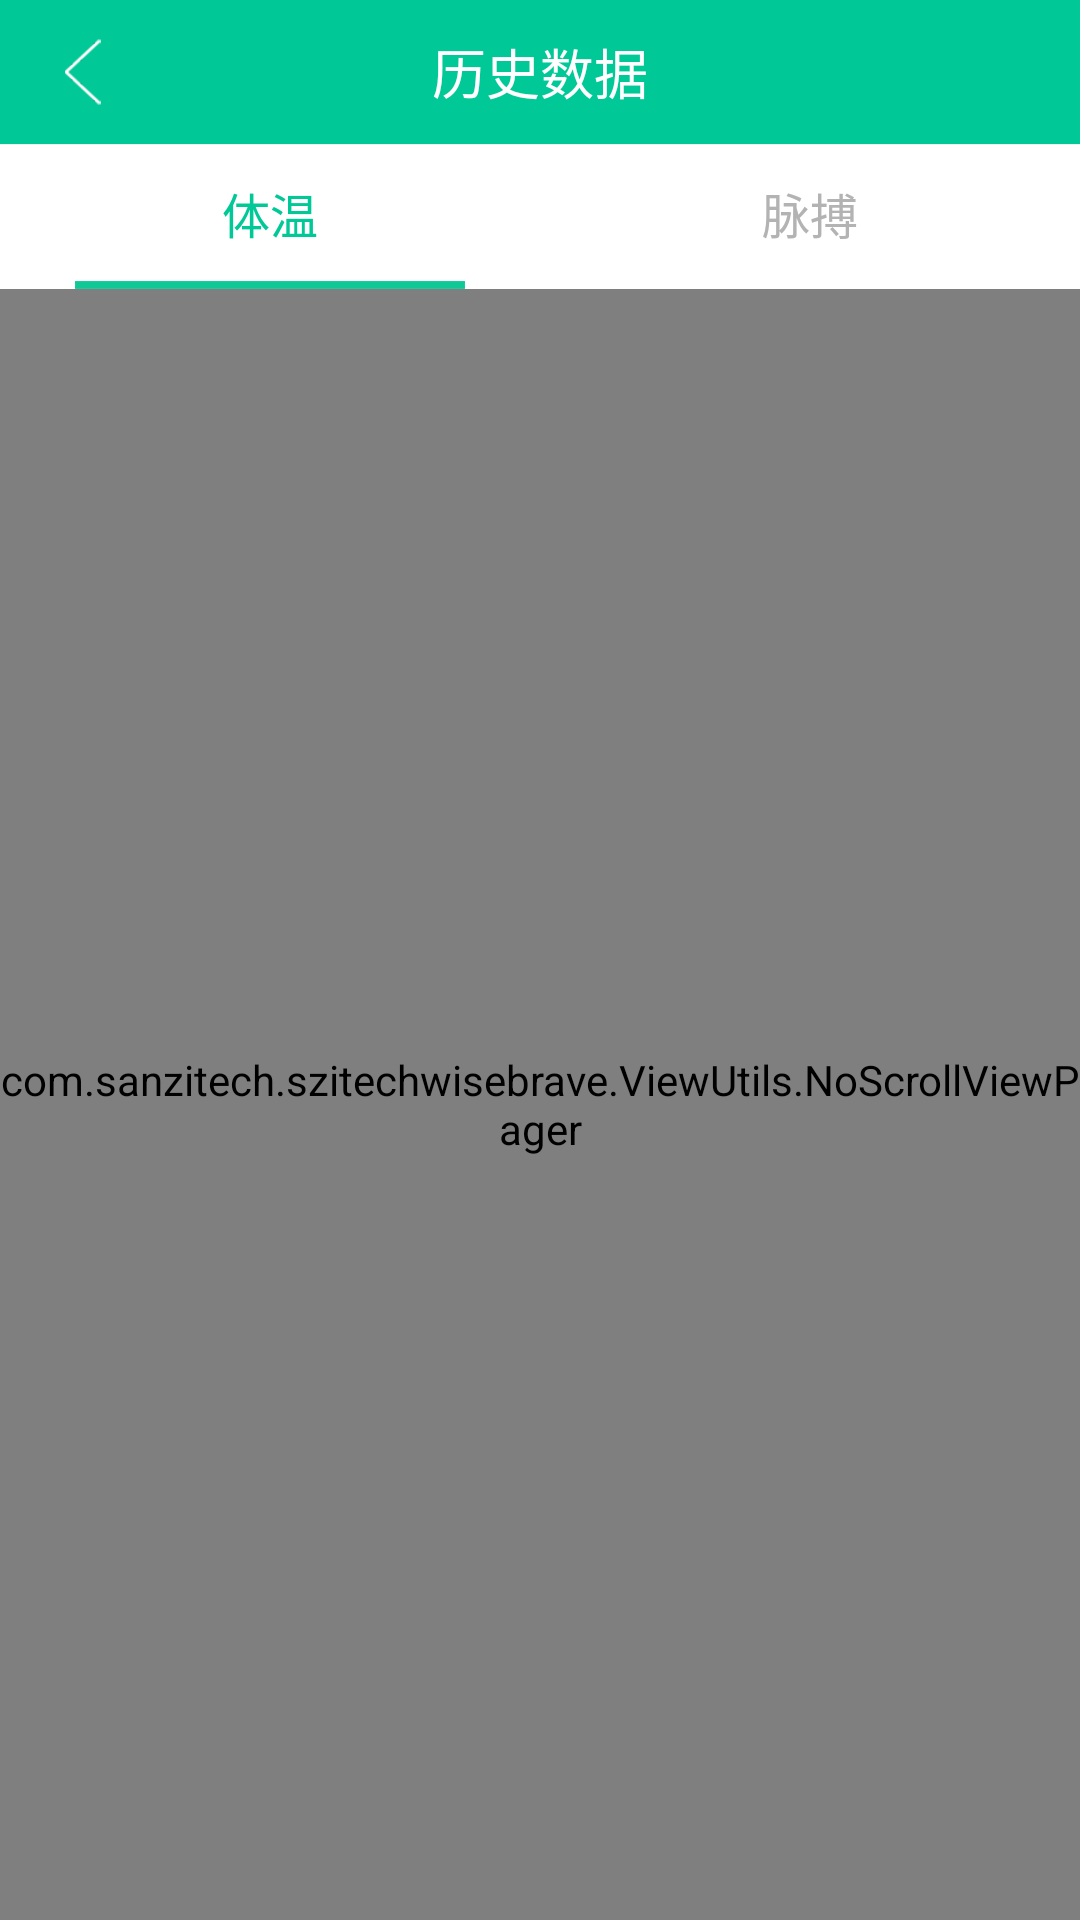

Point at icon controls on the screen. Image size 1080 x 1920, points as (x=x, y=y).
homepage back: (x=83, y=72)
